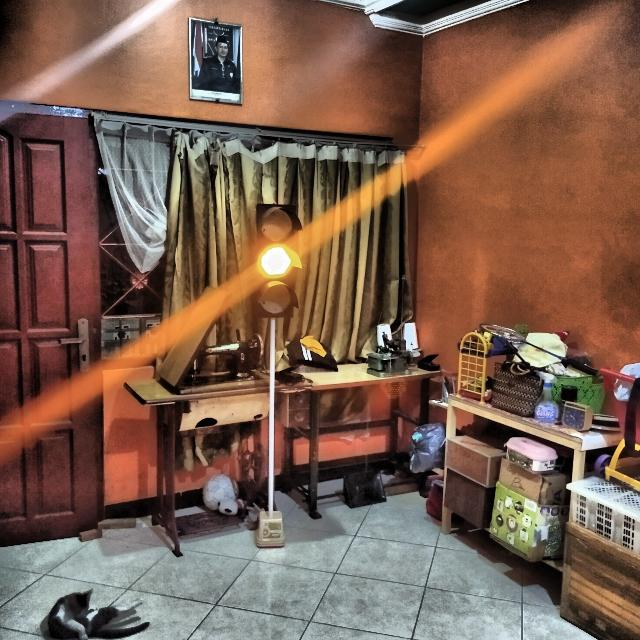yellow: (258, 202, 299, 318)
